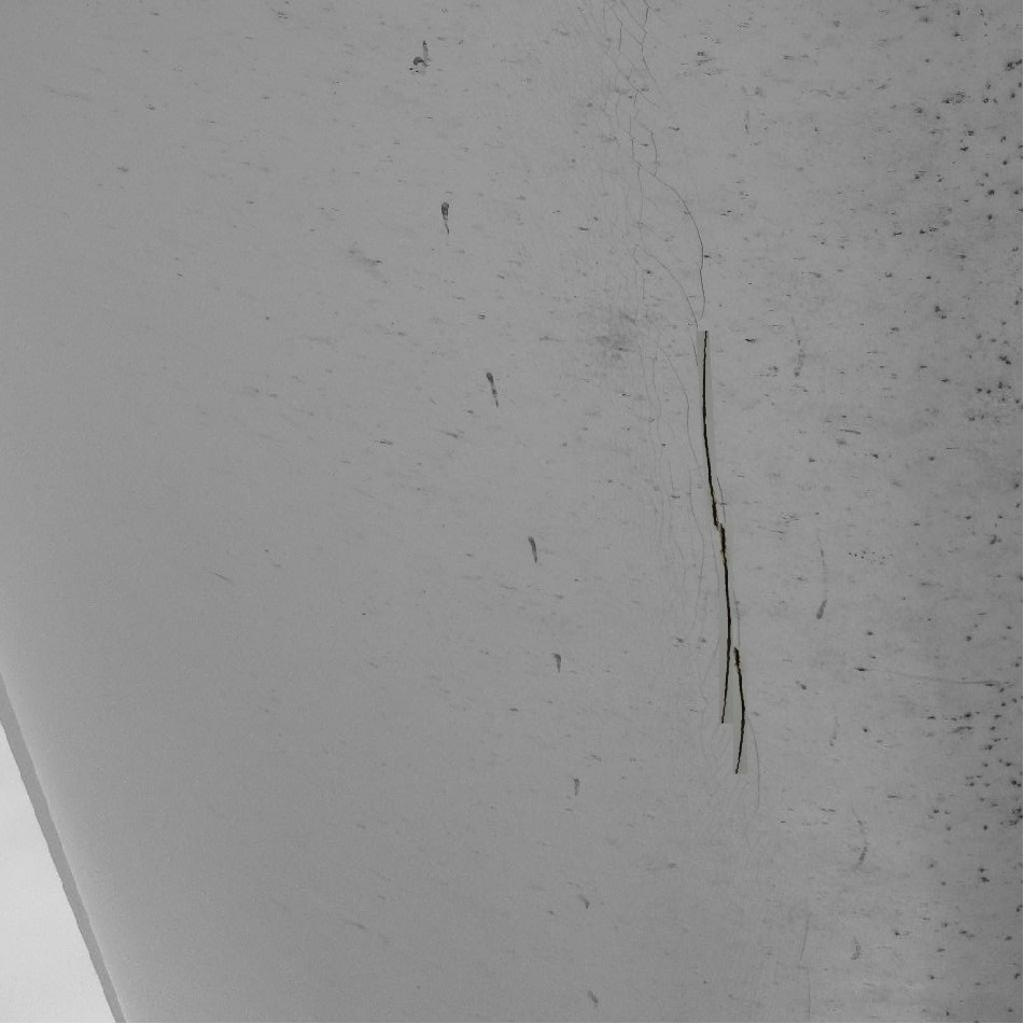hide_craze: (690, 335, 756, 775)
